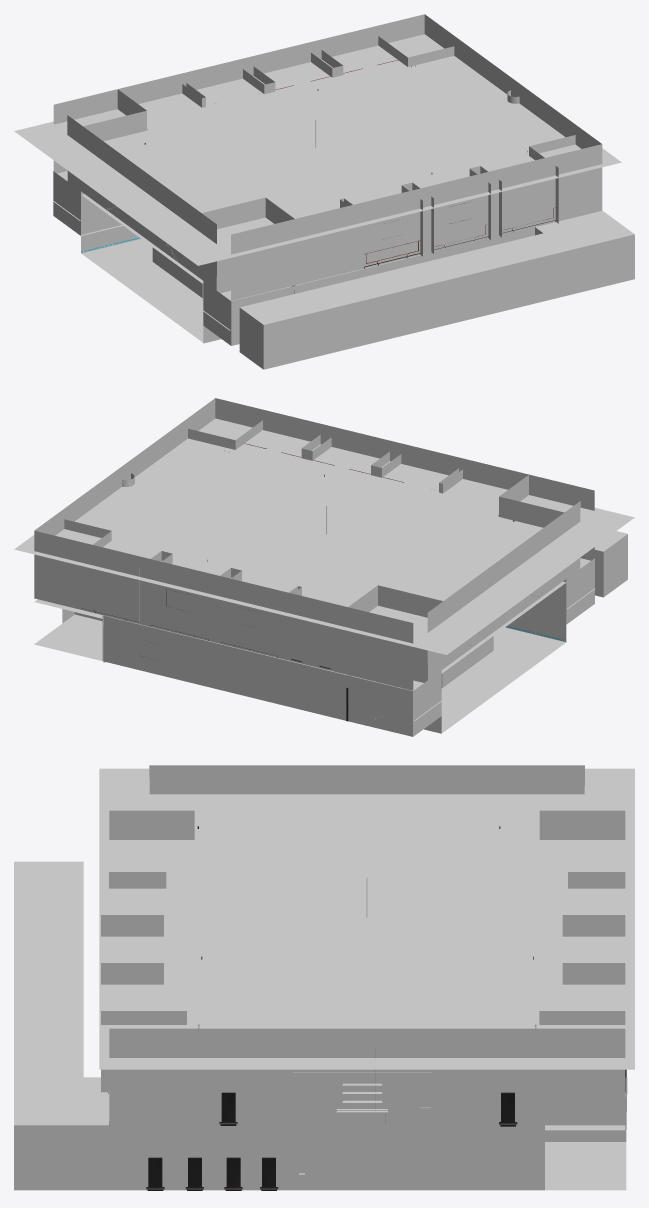
Rendered from night_dance_club_lowpoly.glb.
3 views of the same model, one above another, from view 1: azimuth 30°, elevation 25°; view 2: azimuth 150°, elevation 25°; view 3: azimuth 270°, elevation 25° (orthographic). The views are drawn at different scales.
Visible parts, largest first — view 1: BaseRoom; view 2: BaseRoom; view 3: BaseRoom.
Part boxes in pixels (bbox=[...]): BaseRoom: bbox=[14, 14, 634, 369]; BaseRoom: bbox=[14, 398, 634, 736]; BaseRoom: bbox=[14, 765, 634, 1190].
Bounding box in the file's own units: 43.16 × 13.34 × 37.66.
Materials: 12 (7 with a texture image).
